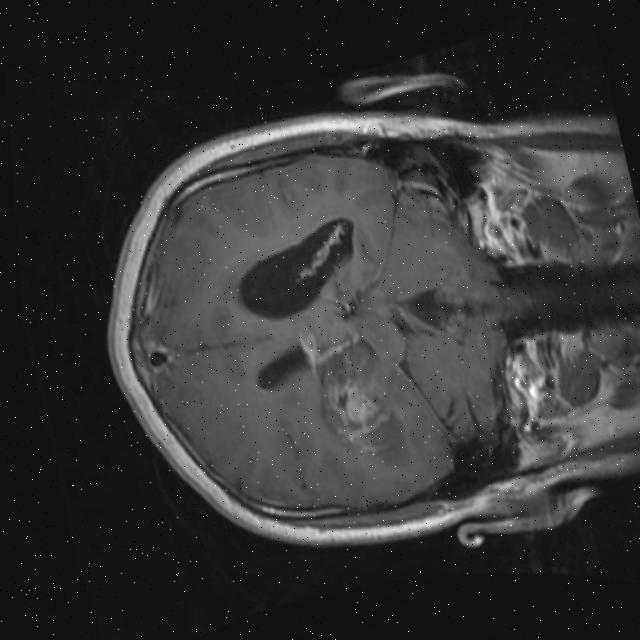Glioma: (302, 338, 402, 474)
